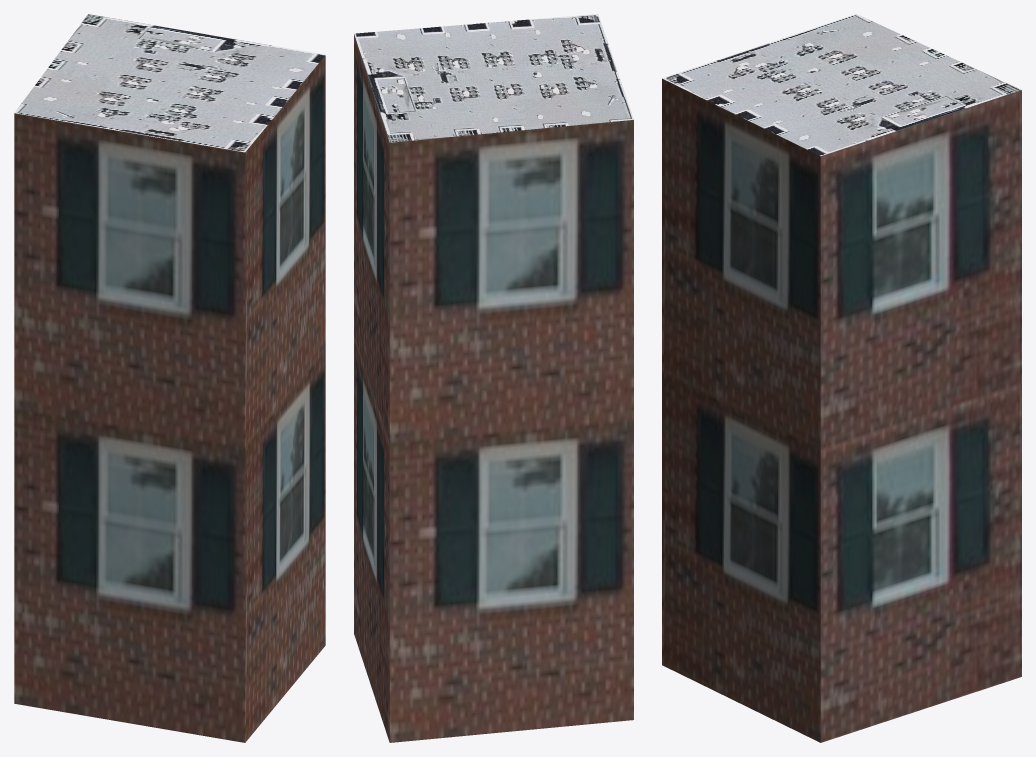
File: ResTex__2816.fbx
The picture shows the model from 3 angles, left to right: view 1: azimuth 30°, elevation 25°; view 2: azimuth 150°, elevation 25°; view 3: azimuth 270°, elevation 25°; orthographic projection. The views are drawn at different scales.
Parts seen in each view (by area): view 1: CityEngineMaterial_14_m, CityEngineMaterial_m; view 2: CityEngineMaterial_14_m, CityEngineMaterial_m; view 3: CityEngineMaterial_14_m, CityEngineMaterial_m.
Part boxes in pixels (x1=…): CityEngineMaterial_14_m: x1=14, y1=55, x2=325, y2=742; CityEngineMaterial_m: x1=14, y1=14, x2=325, y2=152; CityEngineMaterial_14_m: x1=354, y1=34, x2=633, y2=742; CityEngineMaterial_m: x1=354, y1=14, x2=633, y2=142; CityEngineMaterial_14_m: x1=662, y1=78, x2=1021, y2=742; CityEngineMaterial_m: x1=662, y1=14, x2=1021, y2=156.
Bounding box in the file's own units: 3.12 × 6 × 3.34.
Materials: 2 (2 with a texture image).
